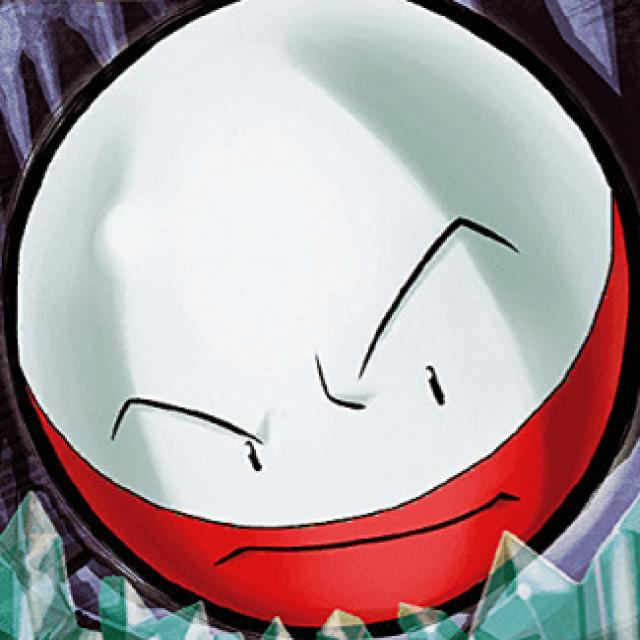Electrode: (8, 1, 638, 624)
